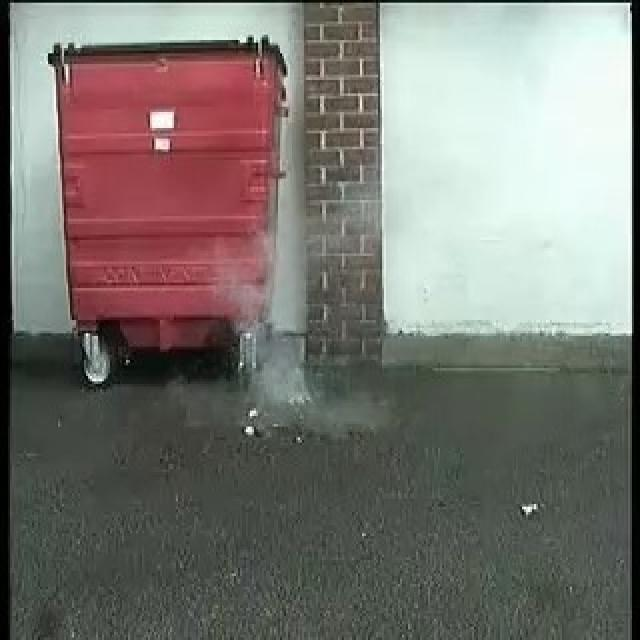Smoke: (238, 262, 328, 422)
